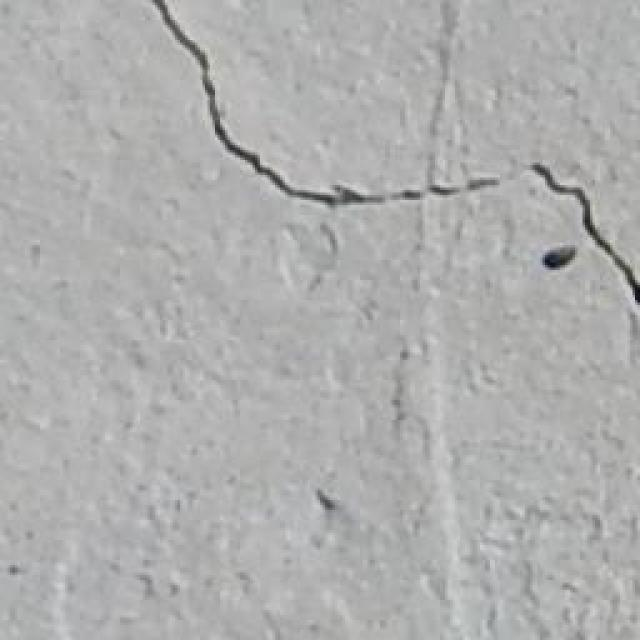concrete-crack: (151, 0, 640, 310), (540, 245, 578, 272)
